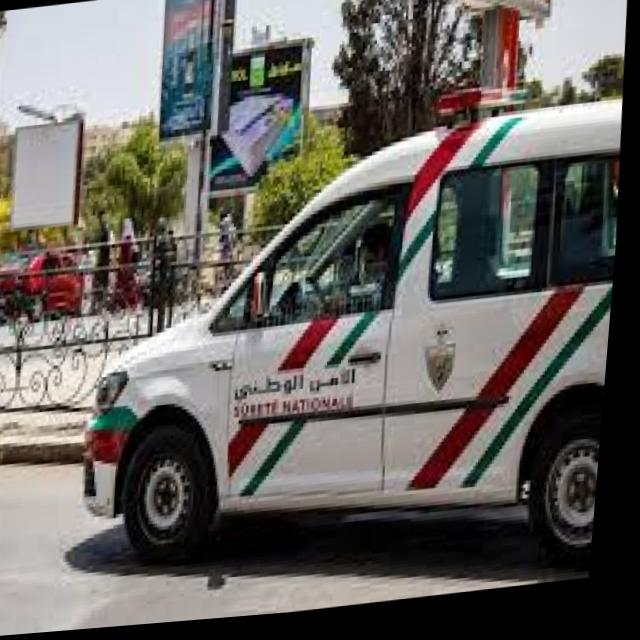Police car: (63, 68, 633, 623)
